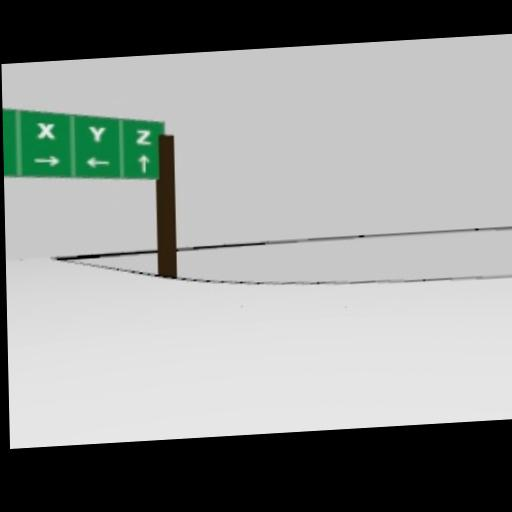Left: (87, 153, 111, 172)
Right: (33, 151, 62, 170)
Straight: (138, 150, 152, 175)
X: (35, 118, 57, 141)
Y: (85, 121, 109, 146)
Z: (135, 126, 153, 147)
